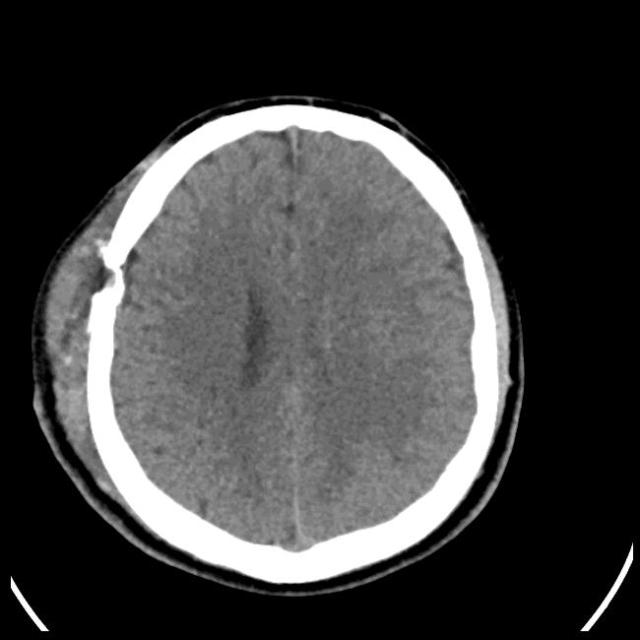lesion: (33, 95, 524, 592)
